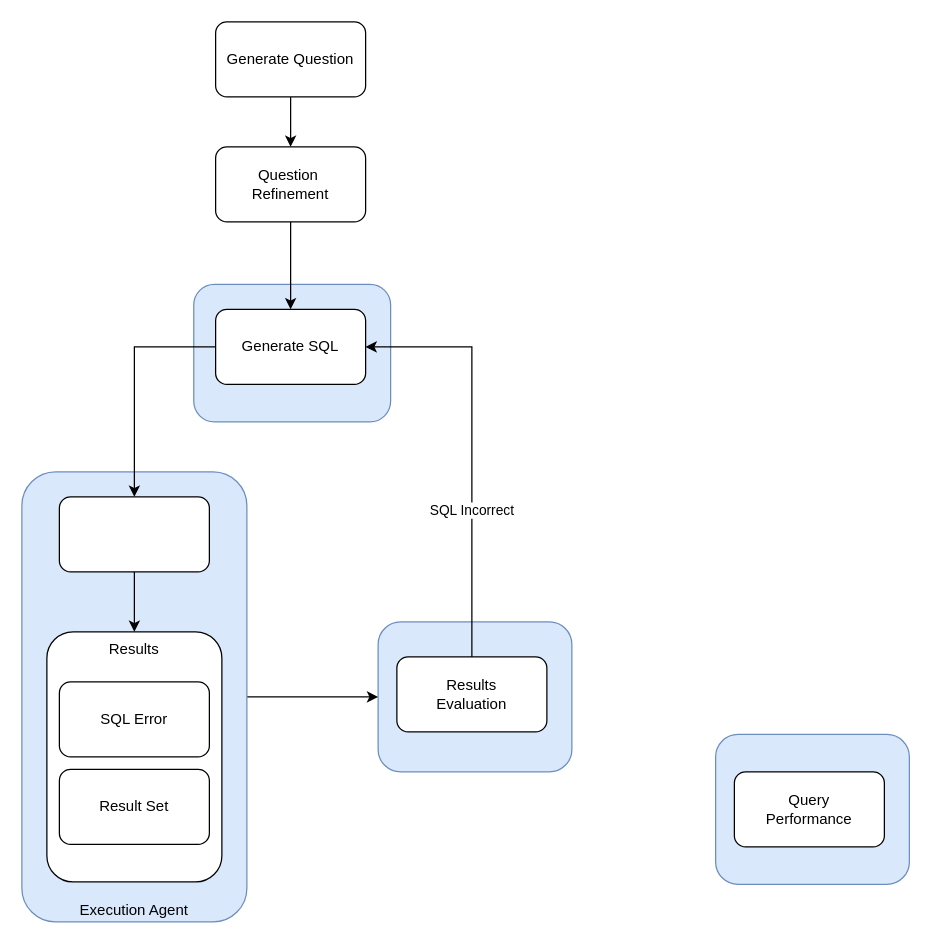
The diagram is 931 pixels wide and 944 high, and some of its shapes have lost their labels. The shapes that lost their labels are listed below. From the top down, each one's box as (x1, y1, x2, y2) in pixels, then its label:
(192, 283, 391, 422): Query Writer Agent
(58, 496, 209, 572): Execute SQL
(377, 621, 572, 772): Results Eval Agent (Manager)
(714, 733, 909, 884): Query Performance Agent
